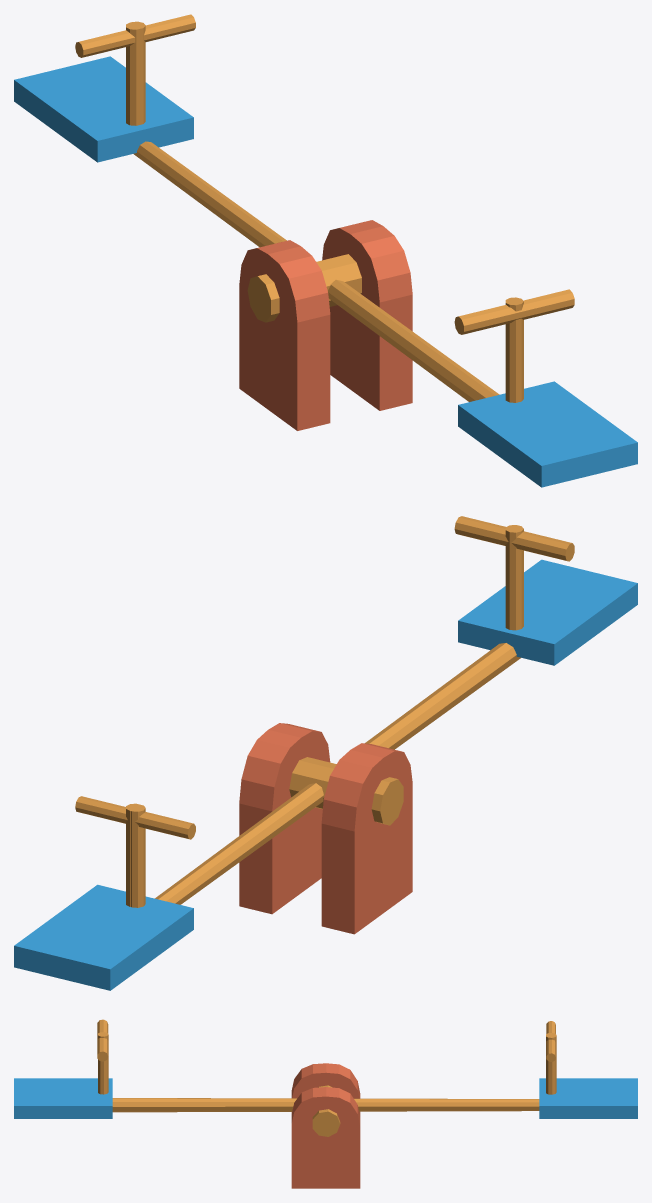
File: tahteravalli.fbx
The picture shows the model from 3 angles, top to bottom: view 1: azimuth 30°, elevation 25°; view 2: azimuth 150°, elevation 25°; view 3: azimuth 270°, elevation 25°; orthographic projection. The views are drawn at different scales.
Parts seen in each view (by area): view 1: çubuk, merkez; view 2: çubuk, merkez; view 3: çubuk, merkez.
Part boxes in pixels (bbox=[...]): çubuk: bbox=[14, 14, 637, 487]; merkez: bbox=[239, 220, 412, 430]; çubuk: bbox=[14, 516, 637, 990]; merkez: bbox=[239, 723, 412, 934]; çubuk: bbox=[14, 1019, 637, 1136]; merkez: bbox=[291, 1063, 360, 1188].
Size of the model in its own units: 220 by 369 by 1516.
